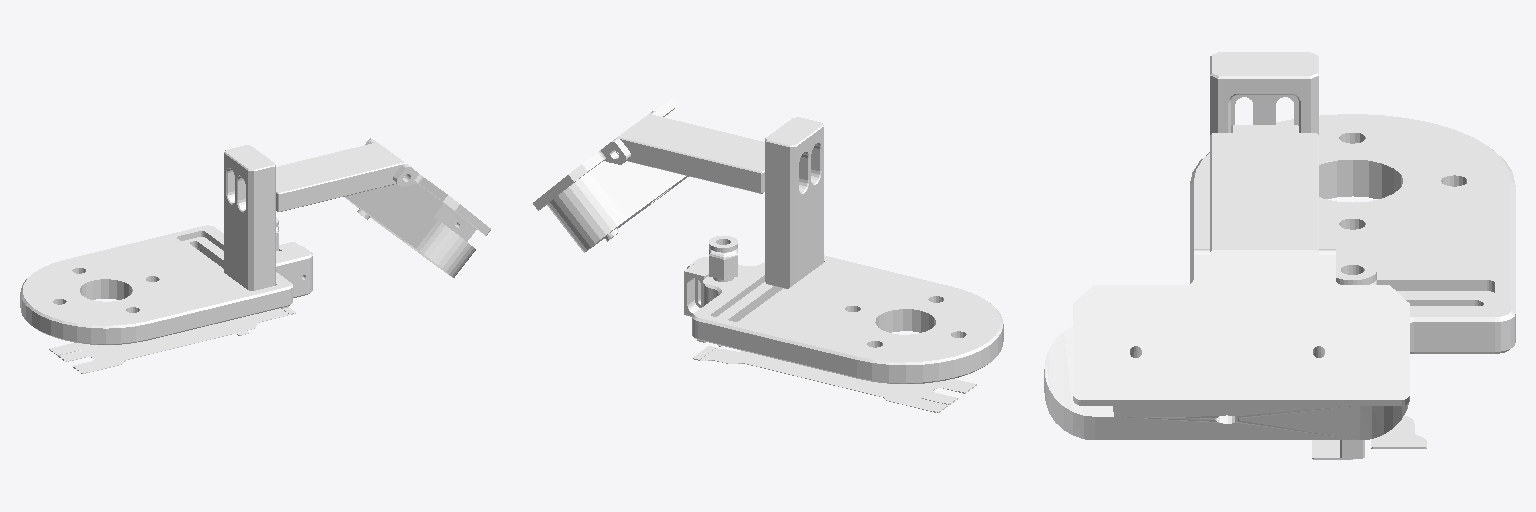
robot.urdf — panda:
<?xml version="1.0" ?>
<!-- =================================================================================== -->
<!-- |    This document was autogenerated by xacro from panda_arm_hand.urdf.xacro      | -->
<!-- |    EDITING THIS FILE BY HAND IS NOT RECOMMENDED                                 | -->
<!-- =================================================================================== -->
<robot name="panda" xmlns:xacro="http://www.ros.org/wiki/xacro">
  <link name="panda_link0">
  	<inertial>
      <origin rpy="0 0 0" xyz="0 0 0.05"/>
      <mass value="2.9"/>
      <inertia ixx="0.1" ixy="0" ixz="0" iyy="0.1" iyz="0" izz="0.1"/>
    </inertial>
    <visual>
      <geometry>
        <mesh filename="package://meshes/collision/link0.obj"/>
      </geometry>
      <material name="panda_white">
    		<color rgba="1. 1. 1. 1."/>
  		</material>
    </visual>
    <collision>
      <geometry>
        <mesh filename="package://meshes/collision/link0.obj"/>
      </geometry>
      <material name="panda_white"/>
    </collision>
  </link>
  <link name="panda_link1">
  	<inertial>
      <origin rpy="0 0 0" xyz="0 -0.04 -0.05"/>
      <mass value="2.7"/>
      <inertia ixx="0.1" ixy="0" ixz="0" iyy="0.1" iyz="0" izz="0.1"/>
    </inertial>
    <visual>
      <geometry>
        <mesh filename="package://meshes/visual/link1.obj"/>
      </geometry>
      <material name="panda_white"/>
    </visual>
    <collision>
      <geometry>
        <mesh filename="package://meshes/collision/link1.obj"/>
      </geometry>
      <material name="panda_white"/>
    </collision>
  </link>
  <joint name="panda_joint1" type="revolute">
    <safety_controller k_position="100.0" k_velocity="40.0" soft_lower_limit="-2.8973" soft_upper_limit="2.8973"/>
    <origin rpy="0 0 0" xyz="0 0 0.333"/>
    <parent link="panda_link0"/>
    <child link="panda_link1"/>
    <axis xyz="0 0 1"/>
    <limit effort="87" lower="-6.2831853" upper="6.2831853" velocity="2.1750"/>
  </joint>
  <link name="panda_link2">
  	<inertial>
      <origin rpy="0 0 0" xyz="0 -0.04 0.06"/>
      <mass value="2.73"/>
      <inertia ixx="0.1" ixy="0" ixz="0" iyy="0.1" iyz="0" izz="0.1"/>
    </inertial>
    <visual>
      <geometry>
        <mesh filename="package://meshes/visual/link2.obj"/>
      </geometry>
      <material name="panda_white"/>
    </visual>
    <collision>
      <geometry>
        <mesh filename="package://meshes/collision/link2.obj"/>
      </geometry>
      <material name="panda_white"/>
    </collision>
  </link>
  <joint name="panda_joint2" type="revolute">
    <safety_controller k_position="100.0" k_velocity="40.0" soft_lower_limit="-1.7628" soft_upper_limit="1.7628"/>
    <origin rpy="-1.57079632679 0 0" xyz="0 0 0"/>
    <parent link="panda_link1"/>
    <child link="panda_link2"/>
    <axis xyz="0 0 1"/>
    <limit effort="87" lower="-6.2831853" upper="6.2831853" velocity="2.1750"/>
  </joint>
  <link name="panda_link3">
	  <inertial>
      <origin rpy="0 0 0" xyz="0.01 0.01 -0.05"/>
      <mass value="2.04"/>
      <inertia ixx="0.1" ixy="0" ixz="0" iyy="0.1" iyz="0" izz="0.1"/>
    </inertial>
    <visual>
      <geometry>
        <mesh filename="package://meshes/visual/link3.obj"/>
      </geometry>
      <material name="panda_red">
    		<color rgba="1. 1. 1. 1."/>
  		</material>
    </visual>
    <collision>
      <geometry>
        <mesh filename="package://meshes/collision/link3.obj"/>
      </geometry>
    </collision>
  </link>
  <joint name="panda_joint3" type="revolute">
    <safety_controller k_position="100.0" k_velocity="40.0" soft_lower_limit="-2.8973" soft_upper_limit="2.8973"/>
    <origin rpy="1.57079632679 0 0" xyz="0 -0.316 0"/>
    <parent link="panda_link2"/>
    <child link="panda_link3"/>
    <axis xyz="0 0 1"/>
    <limit effort="87" lower="-6.2831853" upper="6.2831853" velocity="2.1750"/>
  </joint>
  <link name="panda_link4">
  	<inertial>
      <origin rpy="0 0 0" xyz="-0.03 0.03 0.02"/>
      <mass value="2.08"/>
      <inertia ixx="0.1" ixy="0" ixz="0" iyy="0.1" iyz="0" izz="0.1"/>
    </inertial>
    <visual>
      <geometry>
        <mesh filename="package://meshes/visual/link4.obj"/>
      </geometry>
      <material name="panda_white"/>
    </visual>
    <collision>
      <geometry>
        <mesh filename="package://meshes/collision/link4.obj"/>
      </geometry>
      <material name="panda_white"/>
    </collision>
  </link>
  <joint name="panda_joint4" type="revolute">
    <safety_controller k_position="100.0" k_velocity="40.0" soft_lower_limit="-3.0718" soft_upper_limit="-0.0698"/>
    <origin rpy="1.57079632679 0 0" xyz="0.0825 0 0"/>
    <parent link="panda_link3"/>
    <child link="panda_link4"/>
    <axis xyz="0 0 1"/>
    <limit effort="87" lower="-6.2831853" upper="6.2831853" velocity="2.1750"/>
  </joint>
  <link name="panda_link5">
  	<inertial>
      <origin rpy="0 0 0" xyz="0 0.04 -0.12"/>
      <mass value="3"/>
      <inertia ixx="0.1" ixy="0" ixz="0" iyy="0.1" iyz="0" izz="0.1"/>
    </inertial>
    <visual>
      <geometry>
        <mesh filename="package://meshes/visual/link5.obj"/>
      </geometry>
      <material name="panda_white"/>
    </visual>
    <collision>
      <geometry>
        <mesh filename="package://meshes/collision/link5.obj"/>
      </geometry>
      <material name="panda_white"/>
    </collision>
  </link>
  <joint name="panda_joint5" type="revolute">
    <safety_controller k_position="100.0" k_velocity="40.0" soft_lower_limit="-2.8973" soft_upper_limit="2.8973"/>
    <origin rpy="-1.57079632679 0 0" xyz="-0.0825 0.384 0"/>
    <parent link="panda_link4"/>
    <child link="panda_link5"/>
    <axis xyz="0 0 1"/>
    <limit effort="12" lower="-6.2831853" upper="6.2831853" velocity="2.6100"/>
  </joint>
  <link name="panda_link6">
  	<inertial>
      <origin rpy="0 0 0" xyz="0.04 0 0"/>
      <mass value="1.3"/>
      <inertia ixx="0.1" ixy="0" ixz="0" iyy="0.1" iyz="0" izz="0.1"/>
    </inertial>
    <visual>
      <geometry>
        <mesh filename="package://meshes/visual/link6.obj"/>
      </geometry>
      <material name="panda_white"/>
    </visual>
    <collision>
      <geometry>
        <mesh filename="package://meshes/collision/link6.obj"/>
      </geometry>
      <material name="panda_white"/>
    </collision>
  </link>
  <joint name="panda_joint6" type="revolute">
    <safety_controller k_position="100.0" k_velocity="40.0" soft_lower_limit="-0.0175" soft_upper_limit="3.7525"/>
    <origin rpy="1.57079632679 0 0" xyz="0 0 0"/>
    <parent link="panda_link5"/>
    <child link="panda_link6"/>
    <axis xyz="0 0 1"/>
    <limit effort="12" lower="-6.2831853" upper="6.2831853" velocity="2.6100"/>
  </joint>
  <link name="panda_link7">
  	<inertial>
      <origin rpy="0 0 0" xyz="0 0 0.08"/>
      <mass value=".2"/>
      <inertia ixx="0.1" ixy="0" ixz="0" iyy="0.1" iyz="0" izz="0.1"/>
    </inertial>
    <visual>
      <geometry>
        <mesh filename="package://meshes/collision/link7.obj"/>
      </geometry>
      <material name="panda_white"/>
    </visual>
    <collision>
      <geometry>
        <mesh filename="package://meshes/collision/link7.obj"/>
      </geometry>
      <material name="panda_white"/>
    </collision>
  </link>
  <joint name="panda_joint7" type="revolute">
    <safety_controller k_position="100.0" k_velocity="40.0" soft_lower_limit="-2.8973" soft_upper_limit="2.8973"/>
    <origin rpy="1.57079632679 0 0" xyz="0.088 0 0"/>
    <parent link="panda_link6"/>
    <child link="panda_link7"/>
    <axis xyz="0 0 1"/>
    <limit effort="12" lower="-6.2831853" upper="6.2831853" velocity="2.6100"/>
  </joint>
  <link name="panda_link8">
  	 <inertial>
      <origin rpy="0 0 0" xyz="0 0 0"/>
      <mass value="0.0"/>
      <inertia ixx="0.1" ixy="0" ixz="0" iyy="0.1" iyz="0" izz="0.1"/>
    </inertial>
  </link>
  <joint name="panda_joint8" type="fixed">
    <origin rpy="0 0 0" xyz="0 0 0.107"/>
    <parent link="panda_link7"/>
    <child link="panda_link8"/>
    <axis xyz="0 0 0"/>
  </joint>
  
  <!--My Panda-->
  <link name="panda_tool">
  	<inertial>
      <origin rpy="0 0 0" xyz="0 0 0"/>
      <mass value="0.01"/>
      <inertia ixx="0.01" ixy="0.01" ixz="0.0" iyy="0.01" iyz="0.01" izz="0.01"/>
    </inertial>
    <visual>
      <geometry>
        <mesh filename="package://meshes/ffc_assembly/tool.obj"/>
      </geometry>
      <material name="panda_white"/>
    </visual>
    <collision>
      <geometry>
        <mesh filename="package://meshes/ffc_assembly/tool.obj"/>
      </geometry>
      <material name="panda_white"/>
    </collision>
  </link>
  <joint name="panda_tool_joint" type="fixed">
    <parent link="panda_link8"/>
    <child link="panda_tool"/>
    <origin rpy="-1.57079632679 0 1.57079632679" xyz="0 0 0"/>
  </joint>

  <link name="panda_ee">
    <inertial>
      <origin rpy="0 0 0" xyz="0 0 0"/>
      <mass value="0.0"/>
      <inertia ixx="0.0" ixy="0.0" ixz="0.0" iyy="0.0" iyz="0.0" izz="0.0"/>
    </inertial>
  </link>
  <joint name="panda_ee_joint" type="fixed">
    <parent link="panda_tool"/>
    <child link="panda_ee"/>
    <!--<origin xyz="0 0.086 -0.0368" rpy="0 1.57079632679 -1.57079632679"/>-->
    <origin xyz="0 -0.0305 -0.086" rpy="0 1.57079632679 -1.57079632679"/>
  </joint>


  <!--flexible flat cable-->

  <link name="ffc_model">
    <inertial>
      <origin rpy="0 0 0" xyz="0 0 0"/>
      <mass value="0.01"/>
      <inertia ixx="0.0" ixy="0.0" ixz="0.0" iyy="0.0" iyz="0.0" izz="0.0"/>
    </inertial>
    <visual>
      <geometry>
        <mesh filename="package://meshes/ffc_assembly/ffc.obj"/>
      </geometry>
      <material name="panda_white"/>
    </visual>
    <collision>
      <geometry>
        <mesh filename="package://meshes/ffc_assembly/ffc.obj"/>
      </geometry>
      <material name="panda_white"/>
    </collision>
  </link>

  <joint name="ffc_joint" type="fixed">
    <parent link="panda_ee"/>
    <child link="ffc_model"/>
    <origin xyz="-0.0492 0 0" rpy="1.57079632679 0 1.57079632679"/>
  </joint>


</robot>

--- What the picture shows (computed from the rendered views, not written in the file) ---
3 views of the same robot in one strip: view 1: azimuth 30°, elevation 25°; view 2: azimuth 150°, elevation 25°; view 3: azimuth 270°, elevation 25° (orthographic).
Robot: panda — 12 links, 11 joints (7 revolute, 4 fixed); root link panda_link0; default pose: all joints at 0.
Visible links, largest first — view 1: panda_tool, ffc_model; view 2: panda_tool, ffc_model; view 3: panda_tool, ffc_model.
Boxes of the visible links, bbox=[...] form: panda_tool: bbox=[20, 138, 490, 344]; ffc_model: bbox=[49, 307, 295, 373]; panda_tool: bbox=[533, 99, 1003, 383]; ffc_model: bbox=[692, 346, 976, 412]; panda_tool: bbox=[1044, 52, 1515, 458]; ffc_model: bbox=[1312, 415, 1426, 459].
Size in the robot's own frame: 0.2087 by 0.1157 by 0.093 metres.
2 mesh visuals loaded from 10 distinct referenced files (2 OBJ); not drawn: 8 (reference not matched to a file when rendering).